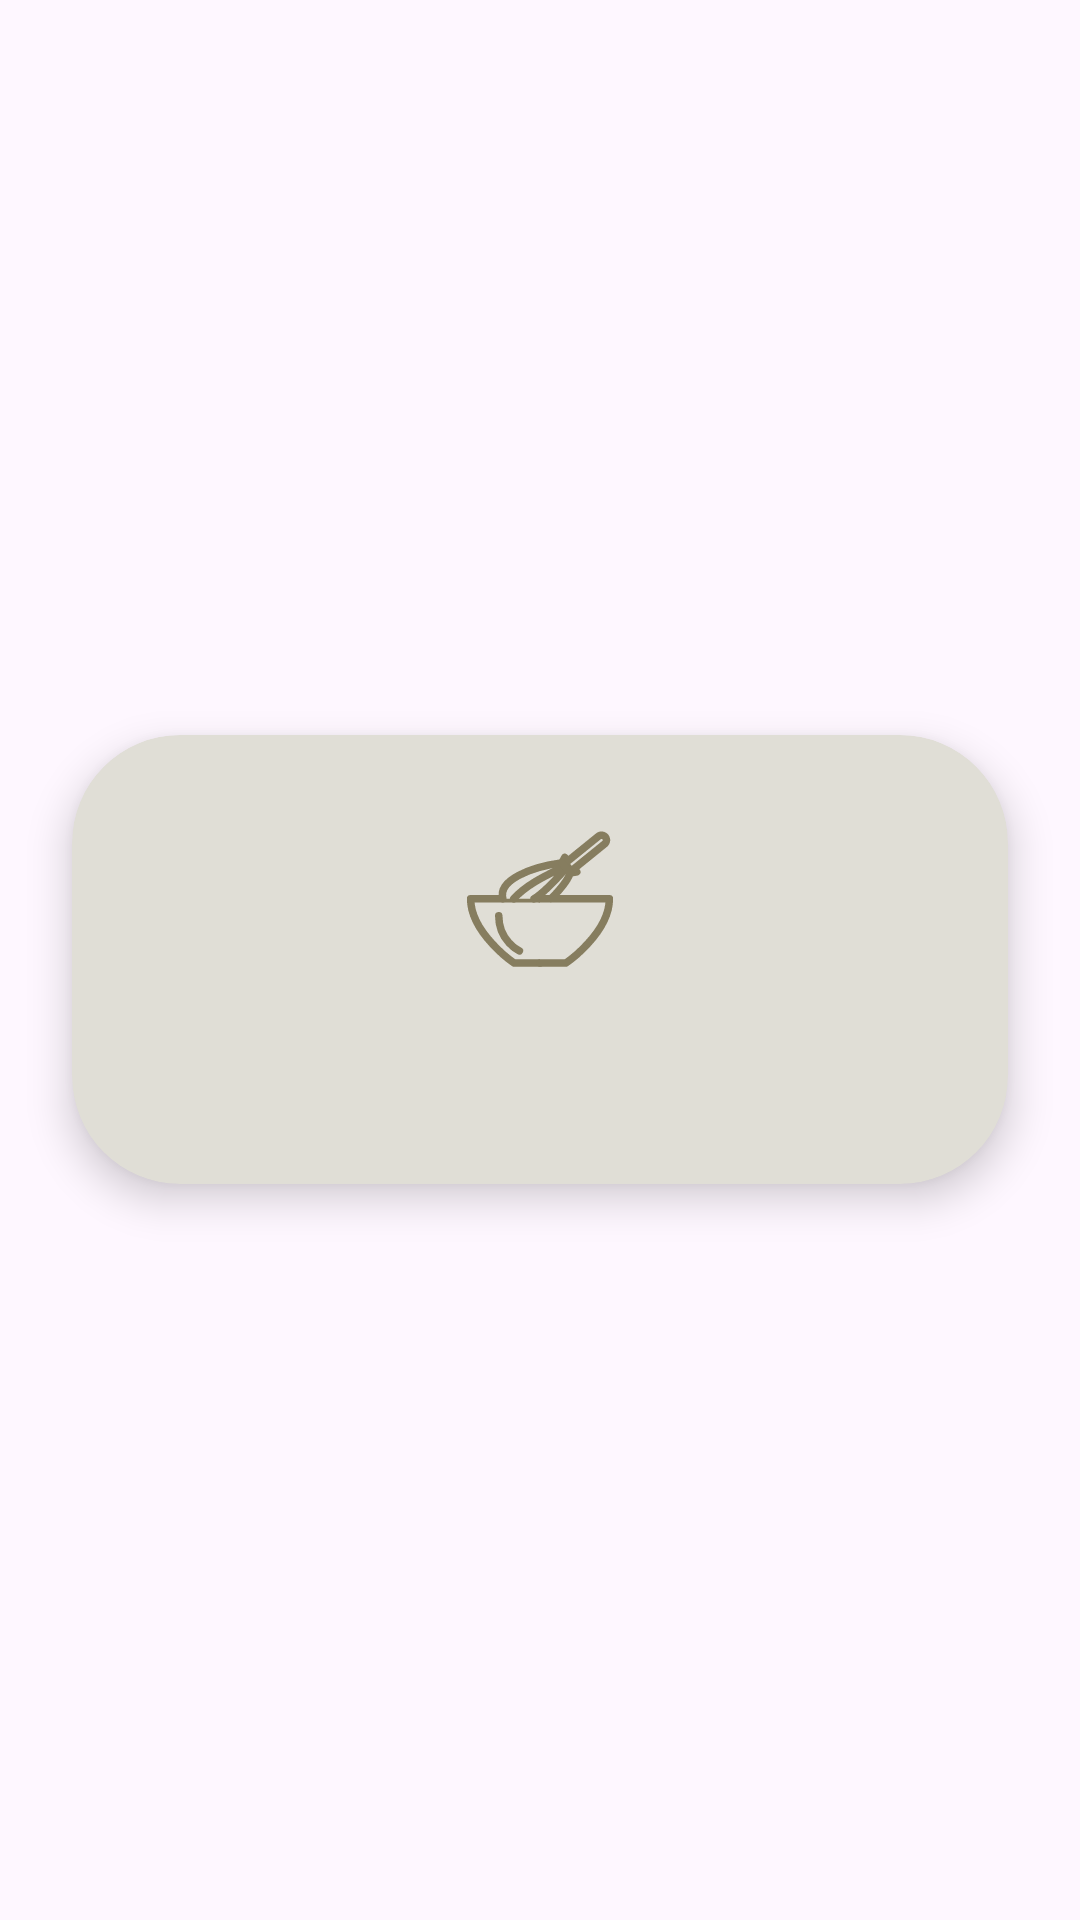

Where icons sit on this 1080px x 1920px app screen, as detection(x1, y1, x2, y2):
mis recetas: detection(467, 831, 613, 967)
